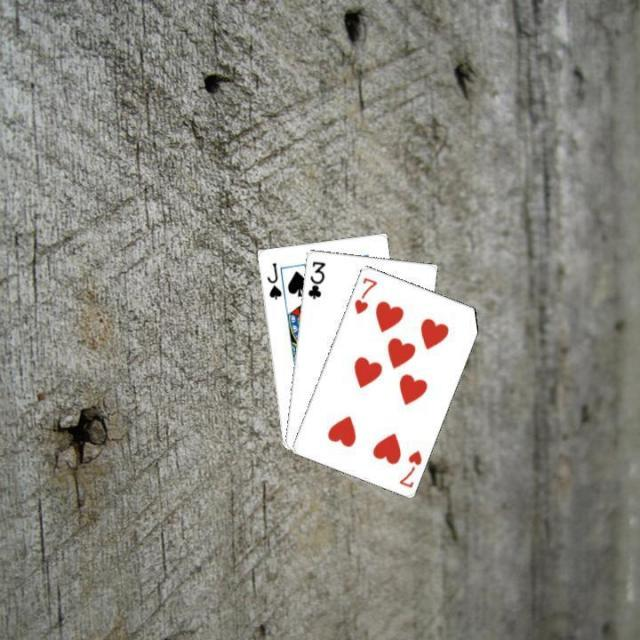3C: (303, 256, 327, 300)
7H: (395, 446, 423, 489), (351, 272, 378, 316)
JS: (262, 258, 284, 302)
